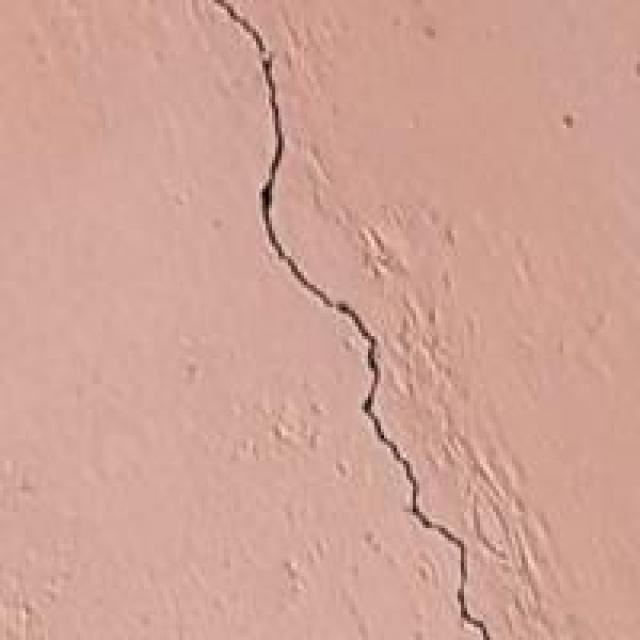crack: (185, 0, 502, 637)
